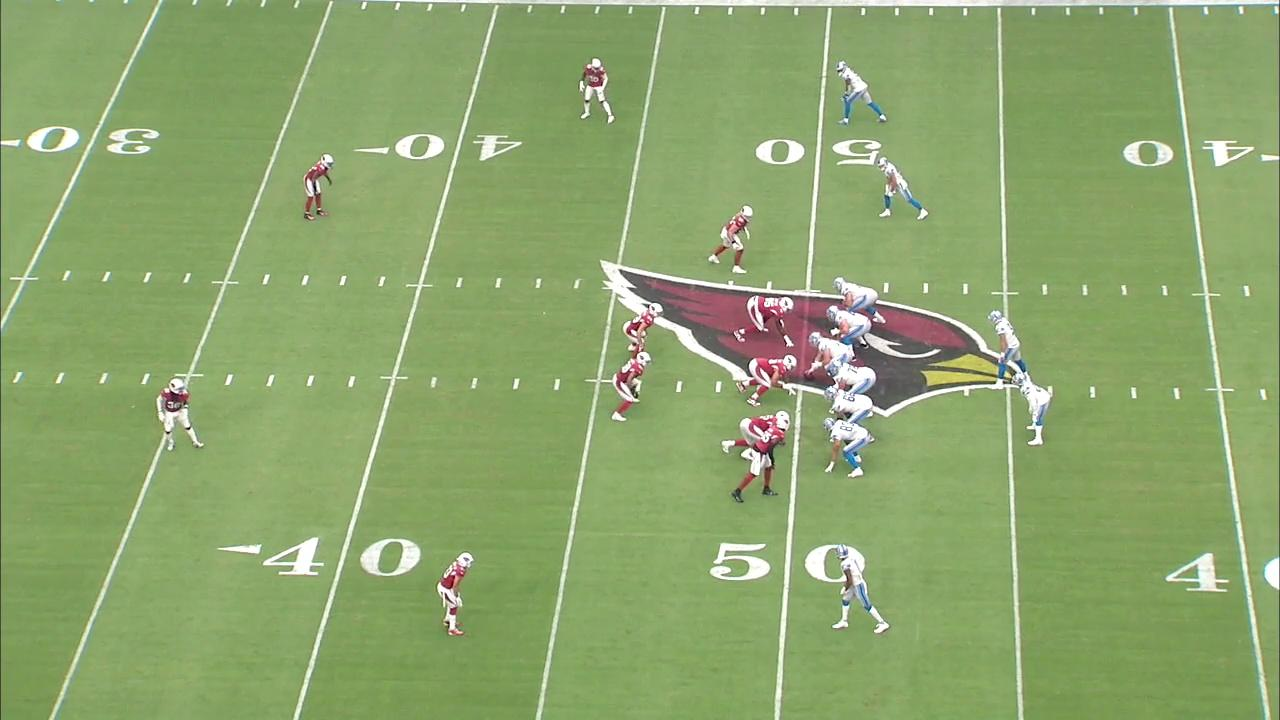defense: (730, 420, 790, 503), (720, 407, 790, 462), (159, 374, 202, 454), (707, 204, 757, 272), (735, 294, 795, 349), (608, 351, 652, 423), (437, 552, 475, 635), (740, 354, 795, 403), (299, 154, 335, 222), (576, 58, 613, 121), (626, 303, 665, 347)
oline: (823, 389, 874, 443), (827, 306, 872, 361), (835, 276, 886, 322), (804, 332, 849, 380), (828, 361, 877, 396)
qb: (987, 310, 1029, 391)
skill: (831, 544, 892, 635), (873, 154, 929, 221), (835, 59, 889, 124), (1014, 369, 1053, 451), (820, 417, 869, 478)
